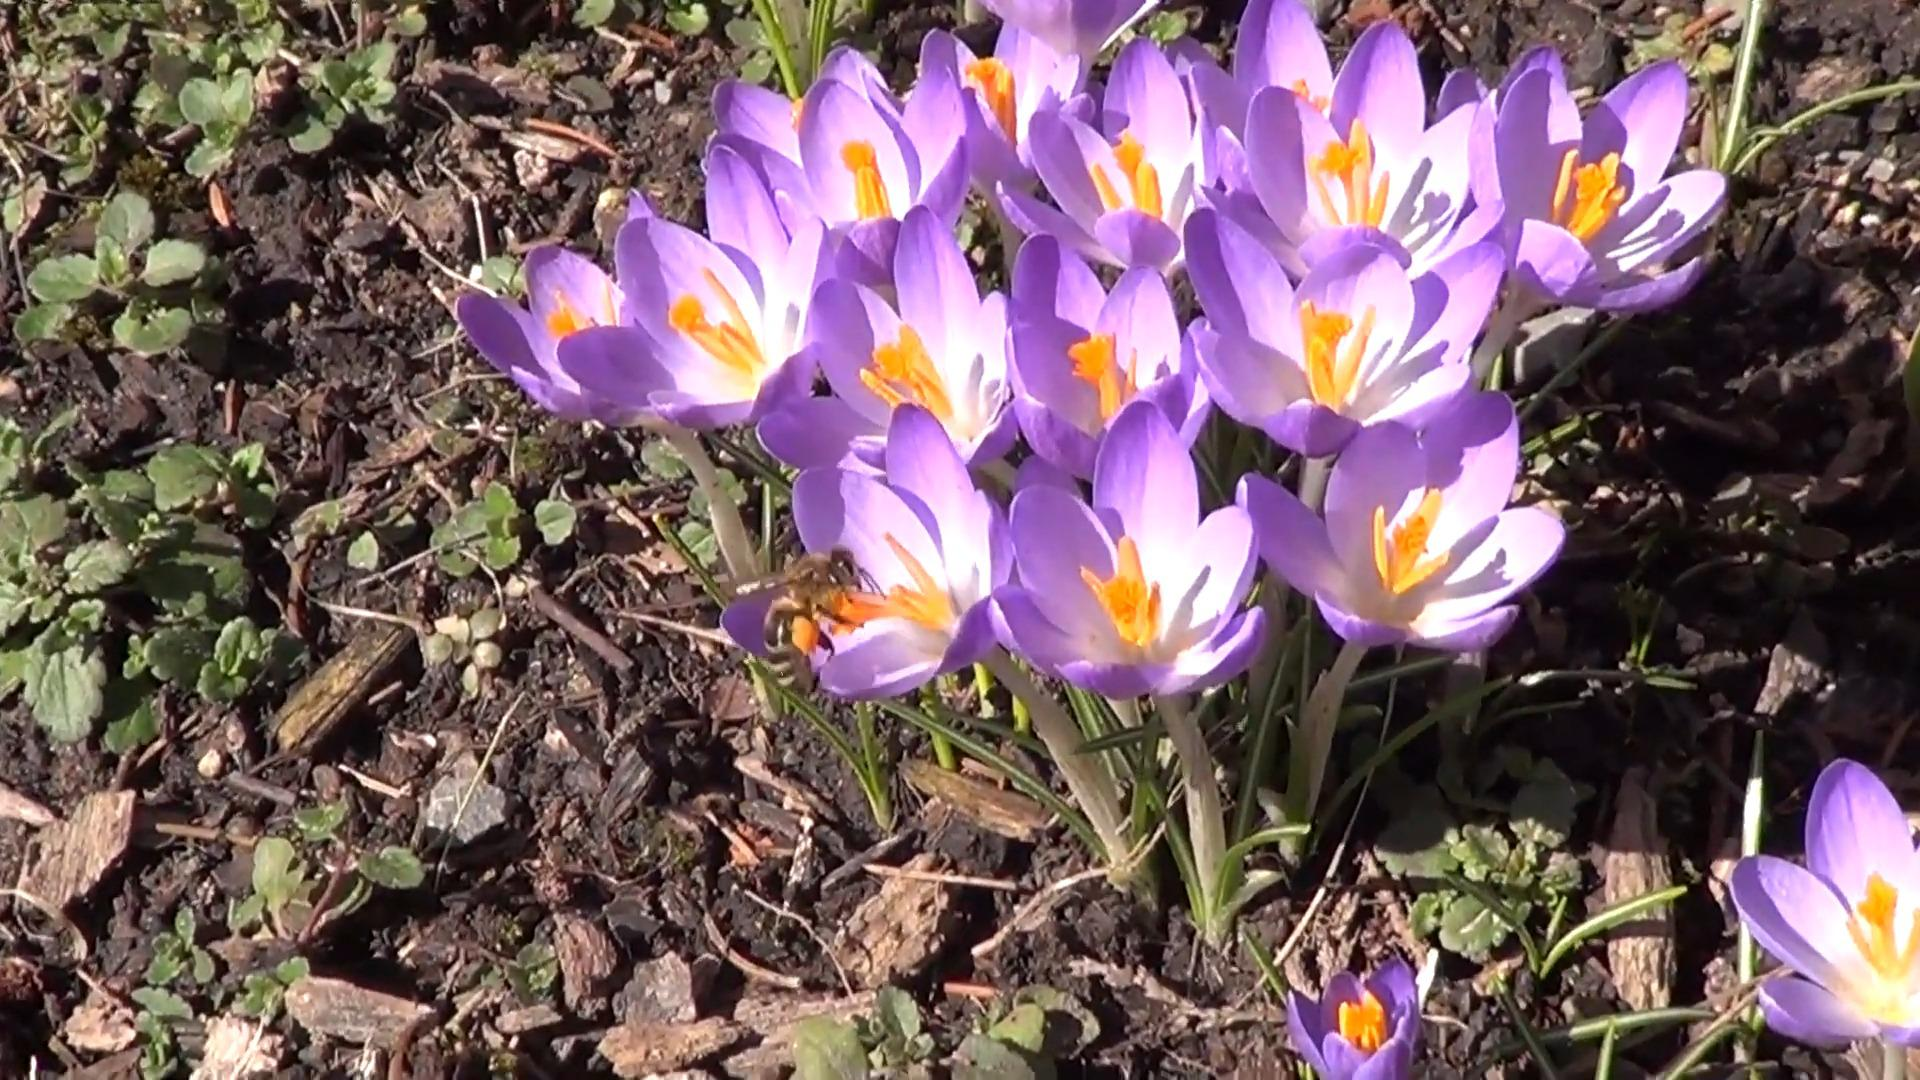pollenbee: (765, 549, 855, 695)
